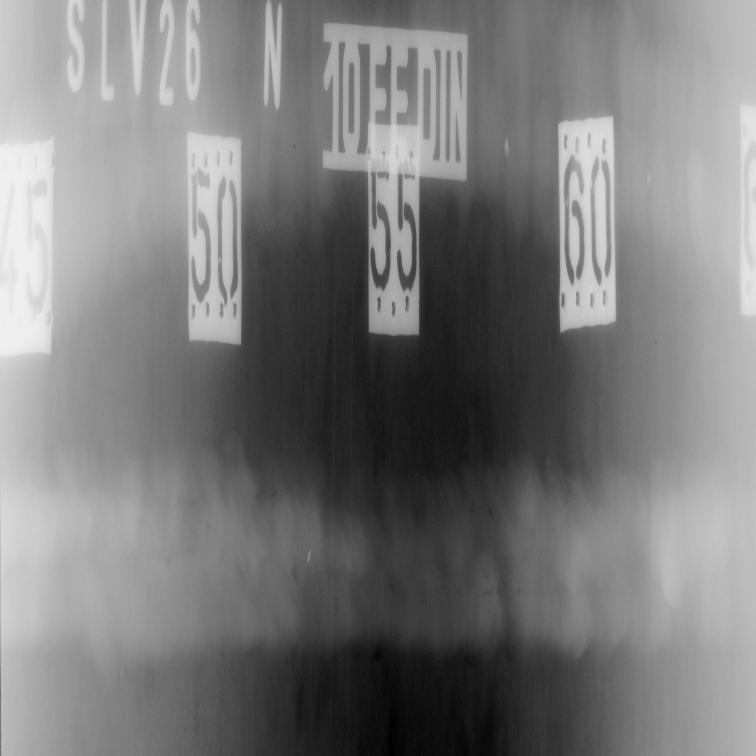FF: (233, 440, 548, 629), (154, 484, 212, 572)
FP: (381, 542, 538, 611)
